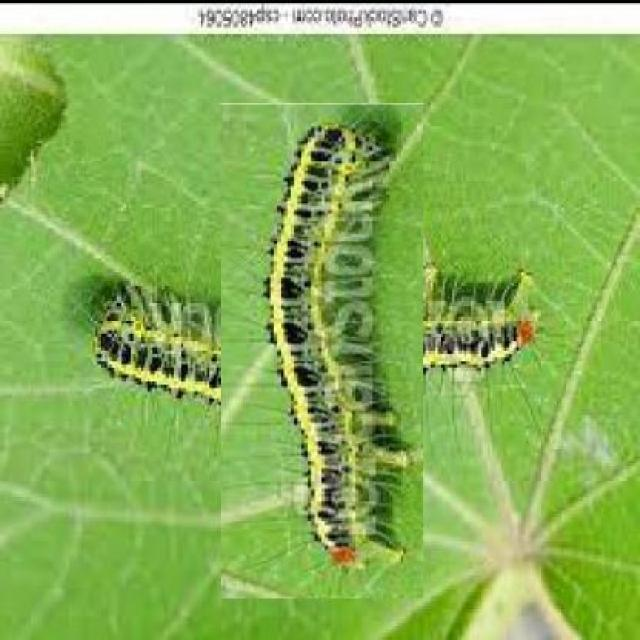Plaga: (147, 177, 500, 530)
